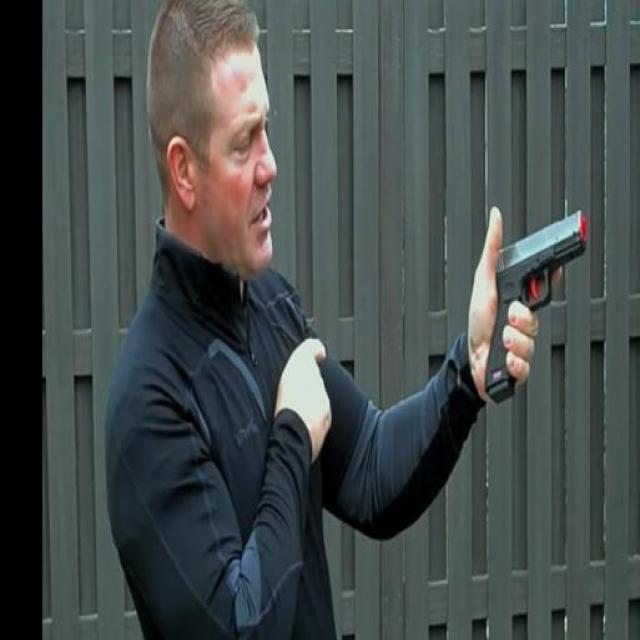Gun: (478, 206, 591, 400)
